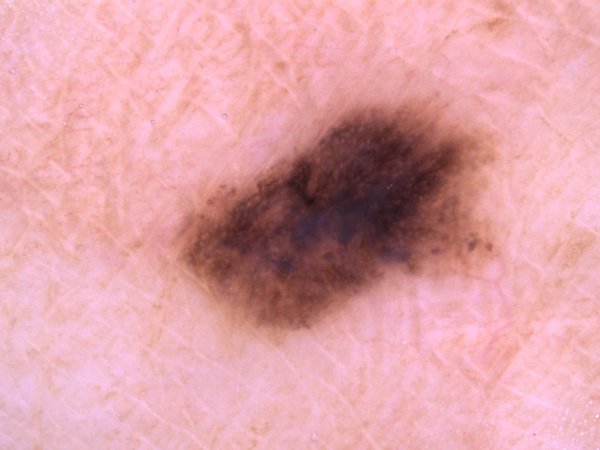Detected Lesion: (171, 88, 501, 338)
